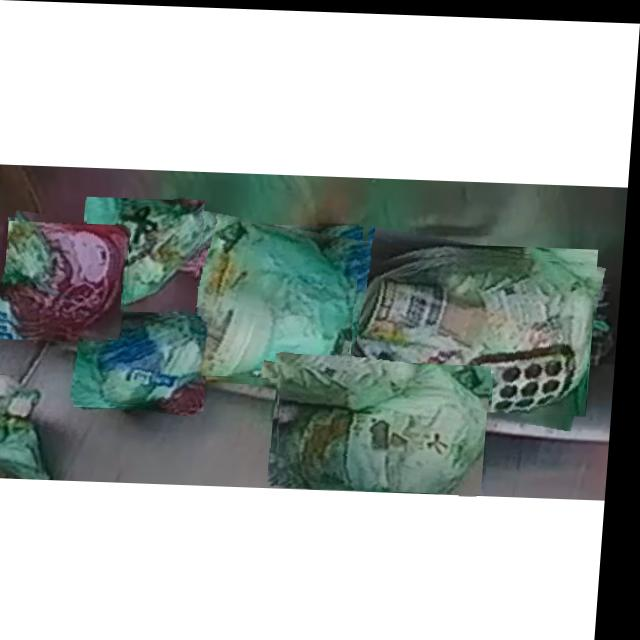general_trashbag: (357, 252, 596, 409), (164, 218, 357, 374), (283, 361, 493, 489), (87, 200, 203, 310), (84, 314, 211, 405), (0, 376, 52, 476)
other_trashbag: (4, 223, 131, 333)
